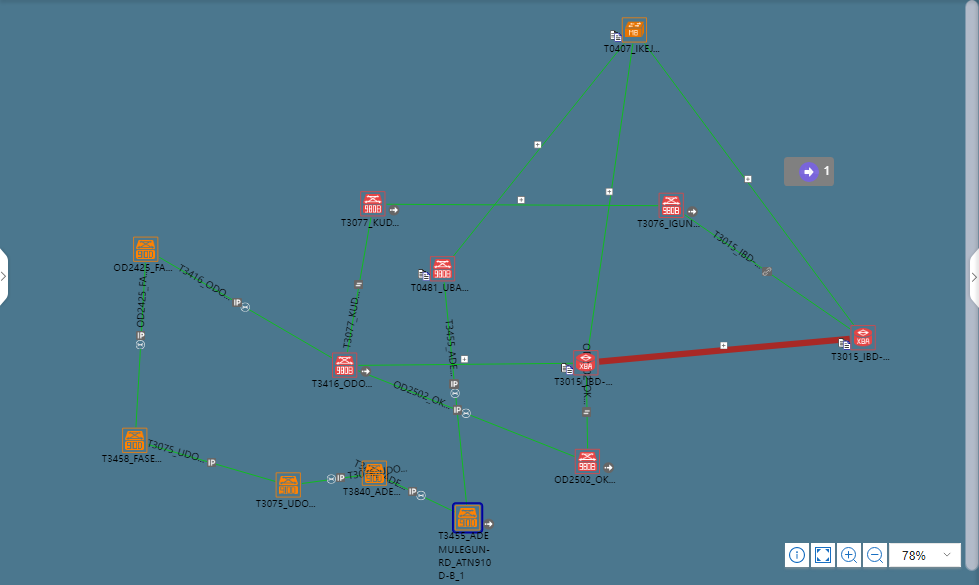ATN_Orange: (364, 461, 387, 490), (132, 240, 161, 263), (278, 473, 301, 496), (125, 430, 148, 452), (456, 510, 477, 533)
ATN_Red: (572, 449, 601, 478), (658, 192, 687, 221), (431, 259, 454, 282), (333, 357, 356, 380), (364, 192, 387, 213)
Link_Green: (646, 45, 849, 320), (456, 45, 621, 250), (682, 210, 852, 331), (162, 253, 329, 361), (584, 45, 638, 348), (431, 400, 577, 456), (444, 308, 473, 496), (150, 442, 277, 481), (444, 351, 473, 502), (346, 216, 375, 341), (358, 369, 450, 406), (132, 265, 148, 426), (389, 479, 454, 514), (303, 473, 352, 490)
Link_Red: (603, 338, 829, 367)
Router_Orange: (621, 20, 644, 43)
Router_Red: (572, 351, 601, 372), (854, 326, 877, 349)
